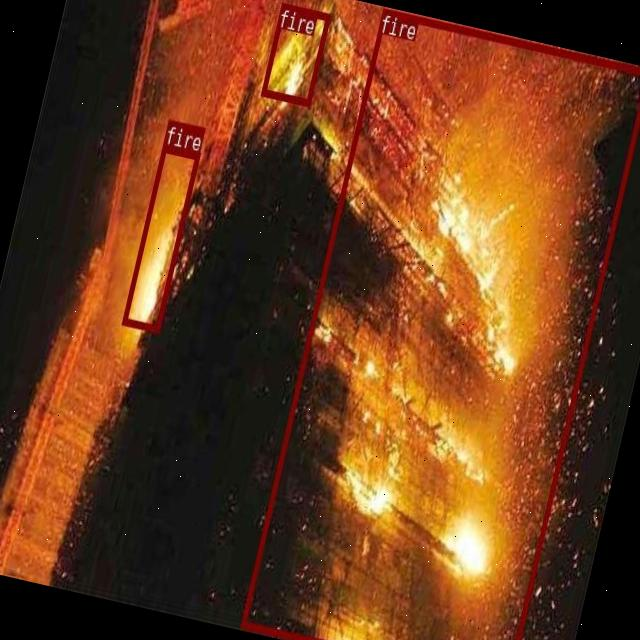fire: (240, 7, 640, 640), (122, 143, 198, 331), (259, 2, 330, 106)
